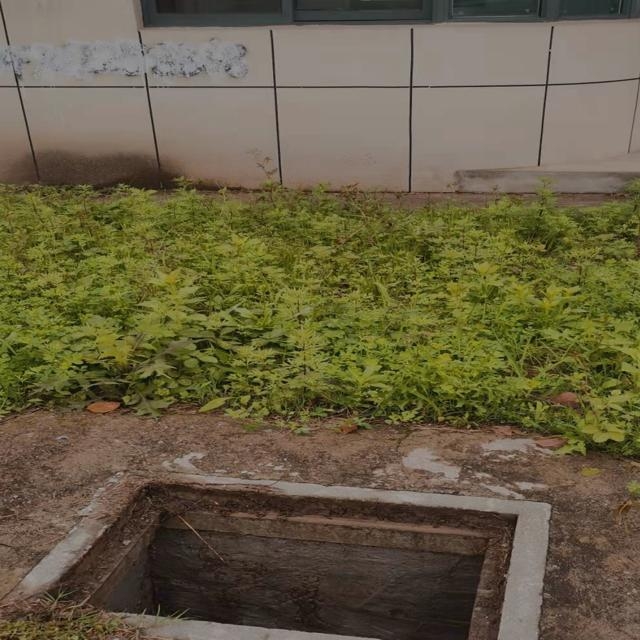lose: (1, 467, 551, 640)
